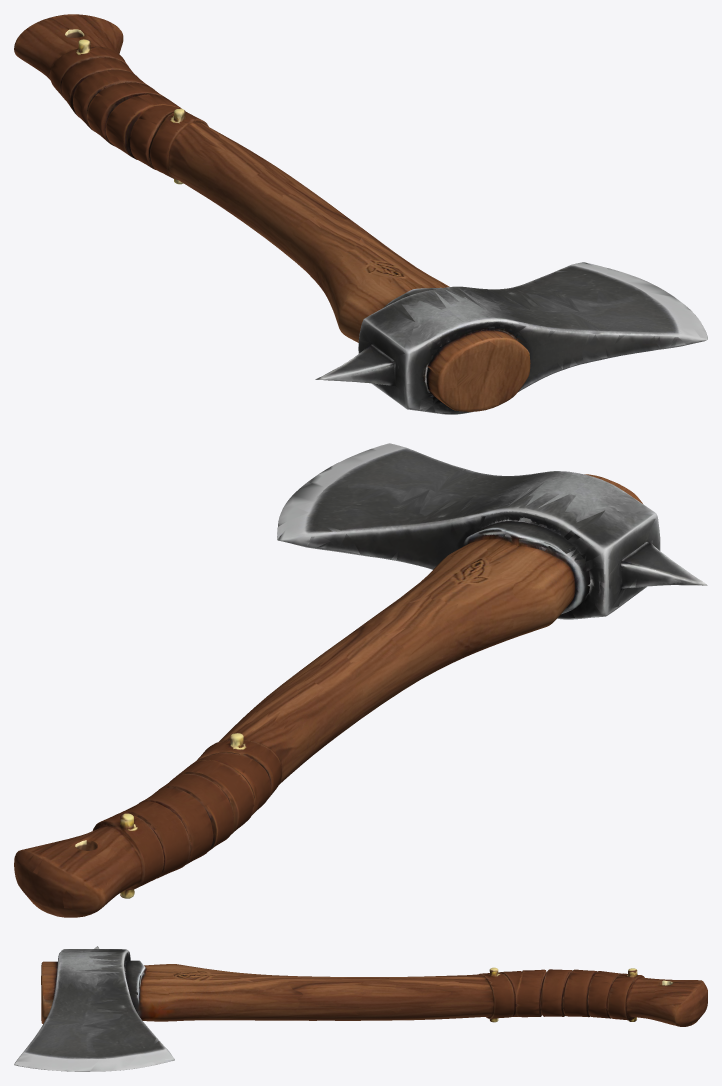
File: hatchet0.glb
3 views of the same model, one above another, from view 1: azimuth 30°, elevation 25°; view 2: azimuth 150°, elevation 25°; view 3: azimuth 270°, elevation 25° (orthographic). The views are drawn at different scales.
Parts seen in each view (by area): view 1: tripo_node_d95acd63; view 2: tripo_node_d95acd63; view 3: tripo_node_d95acd63.
Part boxes in pixels (x1,y1,x2,y2): tripo_node_d95acd63: (14,14,707,414); tripo_node_d95acd63: (14,443,707,917); tripo_node_d95acd63: (14,946,707,1071).
Size of the model in its own units: 0.3234 by 0.079 by 0.7549.
Materials: 1 (1 with a texture image).
